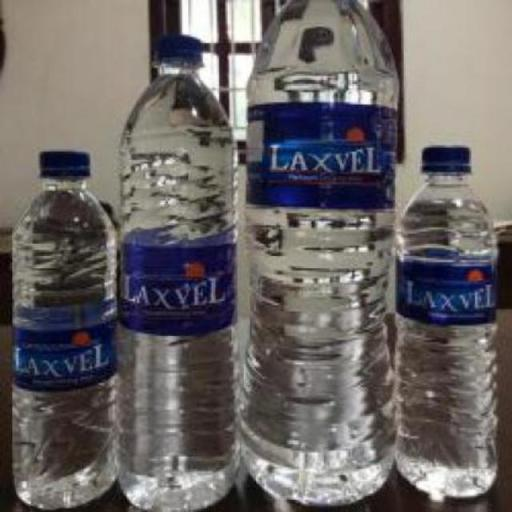Coca: (242, 1, 395, 505), (122, 34, 238, 510), (10, 150, 115, 509), (399, 145, 497, 497)
